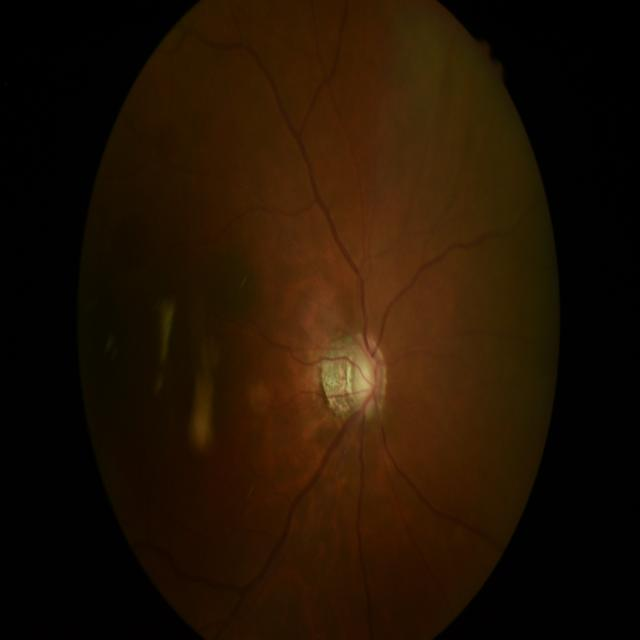cup: (351, 346, 379, 412)
disk: (347, 336, 389, 418)
